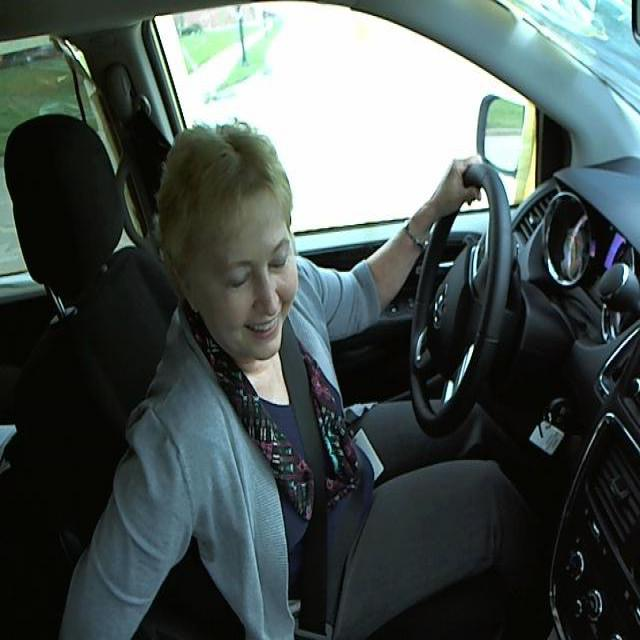seatbelt: (278, 352, 343, 628)
